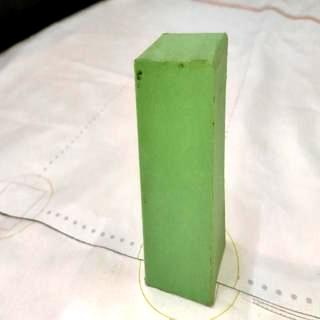greenbox: (133, 31, 228, 309)
